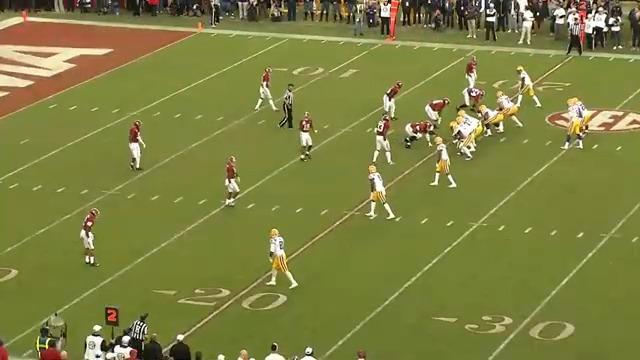defense: (79, 207, 100, 271), (372, 114, 394, 166), (254, 67, 277, 114), (224, 154, 243, 209), (128, 120, 147, 174), (296, 112, 315, 164), (382, 80, 404, 123), (422, 97, 451, 129), (404, 120, 435, 149), (459, 87, 486, 114), (465, 56, 482, 97)
oline: (450, 121, 476, 162), (496, 91, 523, 129), (478, 104, 504, 139), (458, 111, 481, 145), (456, 117, 479, 135)
qb: (562, 96, 583, 151)
ref: (564, 10, 585, 58), (279, 84, 296, 132), (131, 312, 149, 344)
skill: (266, 227, 300, 289), (362, 166, 395, 221), (431, 136, 457, 190), (516, 65, 544, 109), (573, 95, 590, 135)
